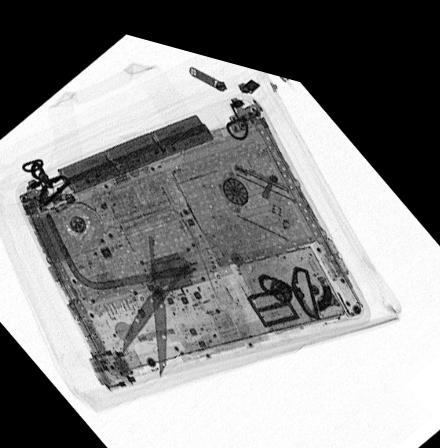Scissors: (114, 221, 195, 373)
